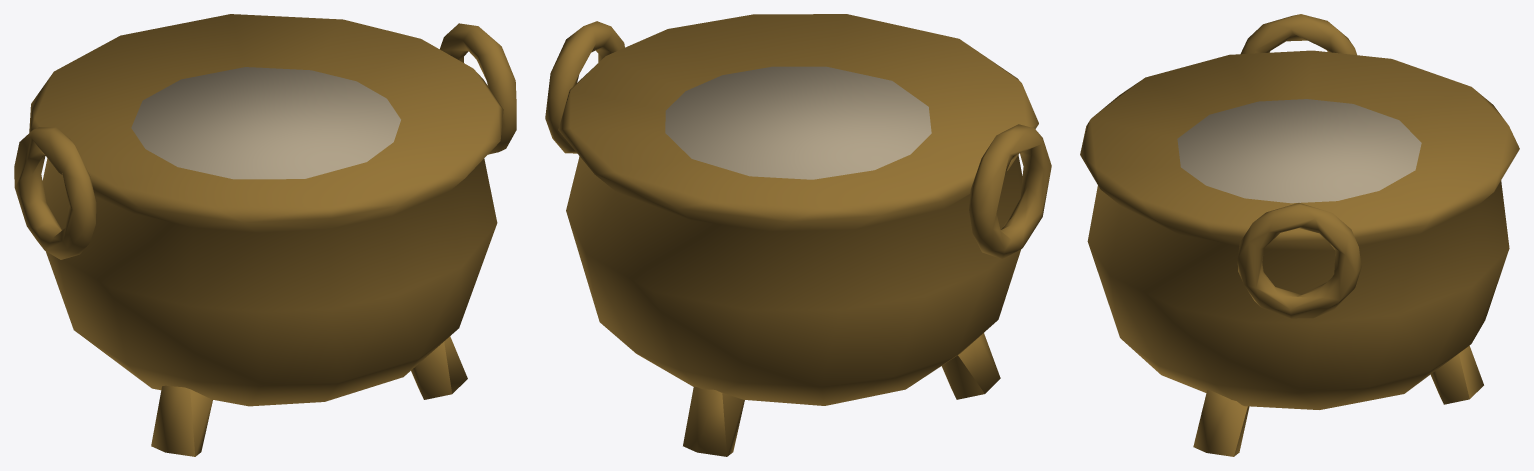
Rendered from lu_huong.glb.
3 views of the same model, side by side, from view 1: azimuth 30°, elevation 25°; view 2: azimuth 150°, elevation 25°; view 3: azimuth 270°, elevation 25° (orthographic). The views are drawn at different scales.
Parts seen in each view (by area): view 1: lu_huong; view 2: lu_huong; view 3: lu_huong.
Boxes of the visible parts, bbox=[...] form: lu_huong: bbox=[14, 14, 516, 456]; lu_huong: bbox=[545, 14, 1051, 456]; lu_huong: bbox=[1080, 14, 1519, 456].
Size of the model in its own units: 0.1902 by 0.1283 by 0.1769.
